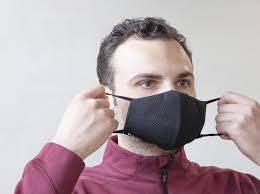FaceMask: (125, 90, 207, 150)
